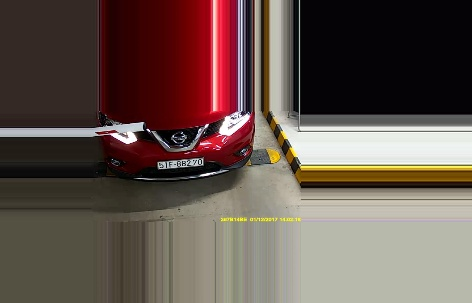plate: (155, 156, 207, 171)
